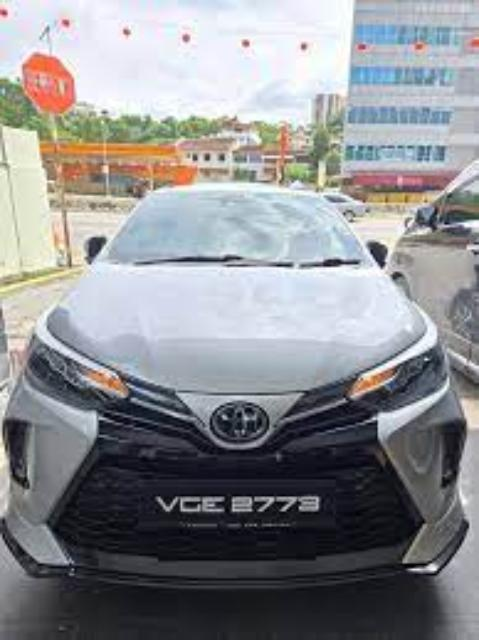License_Plate: (121, 484, 344, 526)
car: (1, 165, 475, 592)
